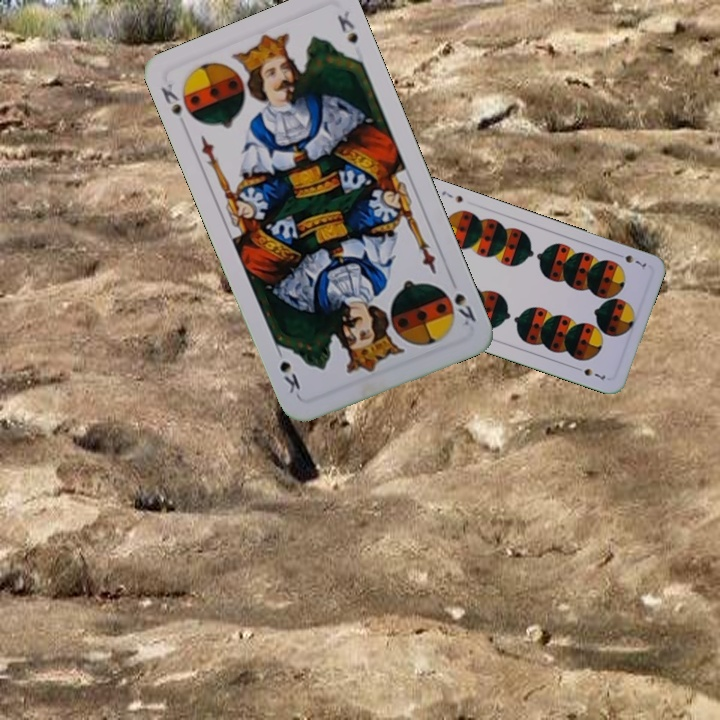S7: (611, 249, 649, 272)
SK: (439, 284, 479, 329), (157, 79, 185, 120)
